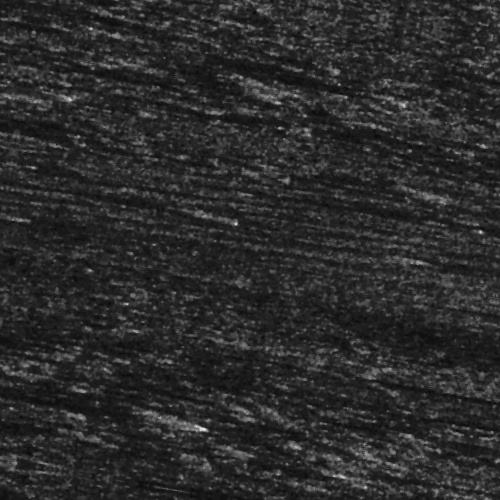object: (158, 214, 221, 225), (321, 69, 394, 78), (0, 195, 30, 206), (158, 114, 221, 119), (326, 489, 389, 494), (369, 227, 422, 232)
shadow: (254, 181, 500, 192), (104, 69, 357, 78), (18, 214, 190, 225), (406, 349, 500, 362), (16, 114, 189, 119), (187, 489, 357, 494), (382, 153, 500, 158), (314, 227, 396, 232), (465, 263, 500, 272)
